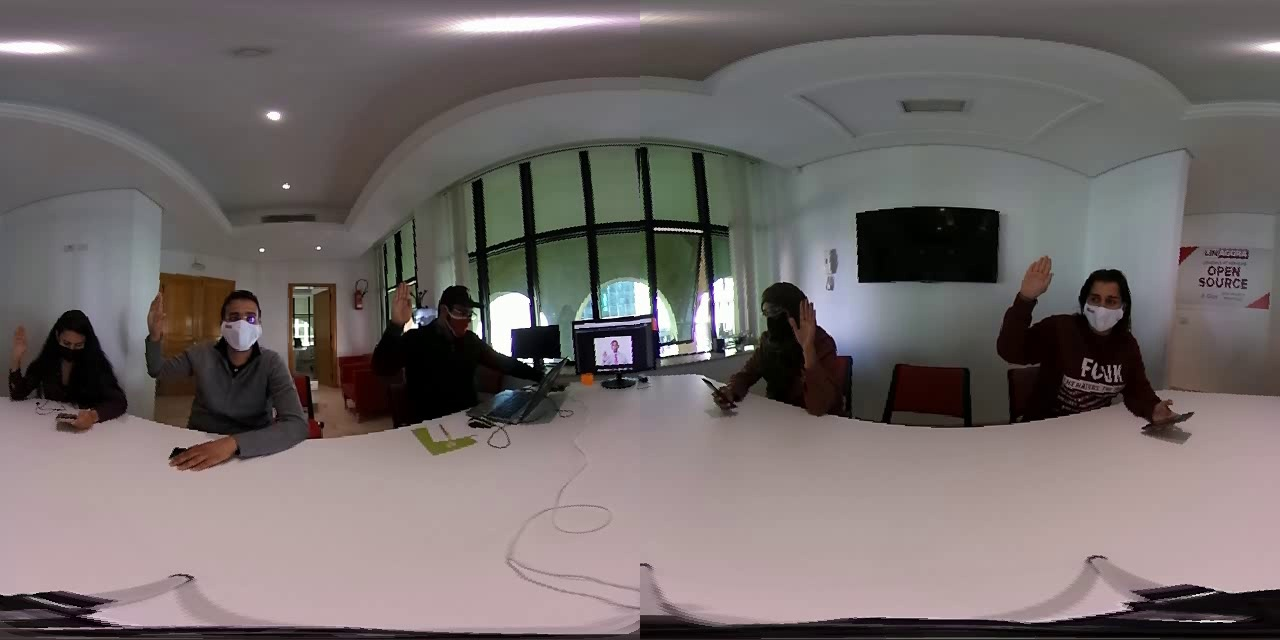person: (136, 273, 311, 473), (995, 238, 1158, 425), (704, 265, 853, 424), (371, 268, 504, 414), (1, 292, 129, 430)
voting: (786, 296, 834, 409), (1013, 246, 1057, 354), (379, 276, 420, 379), (139, 284, 175, 391), (4, 319, 34, 402)
